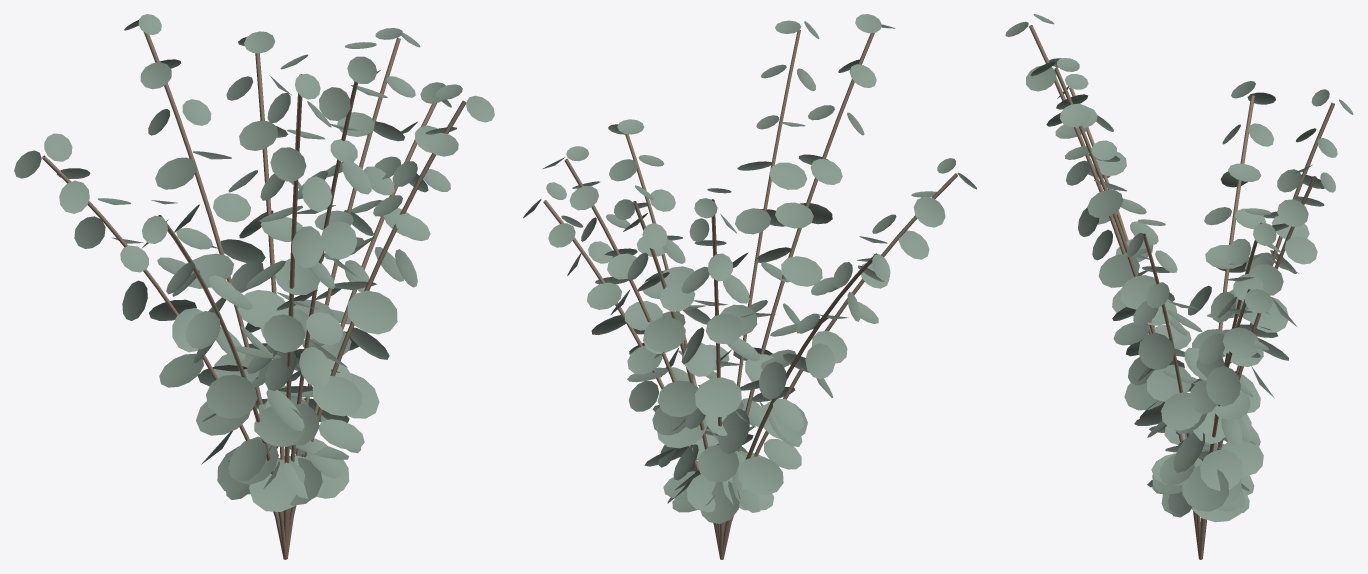
Rendered from silver-2.glb.
3 renders of one model, left to right at view 1: azimuth 30°, elevation 25°; view 2: azimuth 150°, elevation 25°; view 3: azimuth 270°, elevation 25°, orthographic. The views are drawn at different scales.
Visible parts, largest first — view 1: silver-leaves, silver-stems; view 2: silver-leaves, silver-stems; view 3: silver-leaves, silver-stems.
Boxes of the visible parts, x1,y1,x2,y2 form: silver-leaves: (14, 14, 494, 511); silver-stems: (42, 32, 465, 559); silver-leaves: (523, 14, 976, 523); silver-stems: (543, 30, 957, 559); silver-leaves: (1005, 14, 1353, 522); silver-stems: (1029, 25, 1334, 559).
Bounding box in the file's own units: 0.4729 × 0.6218 × 0.384.
